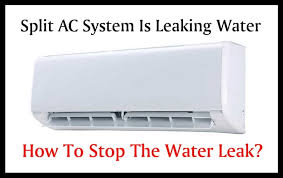ac: (29, 40, 255, 138)
